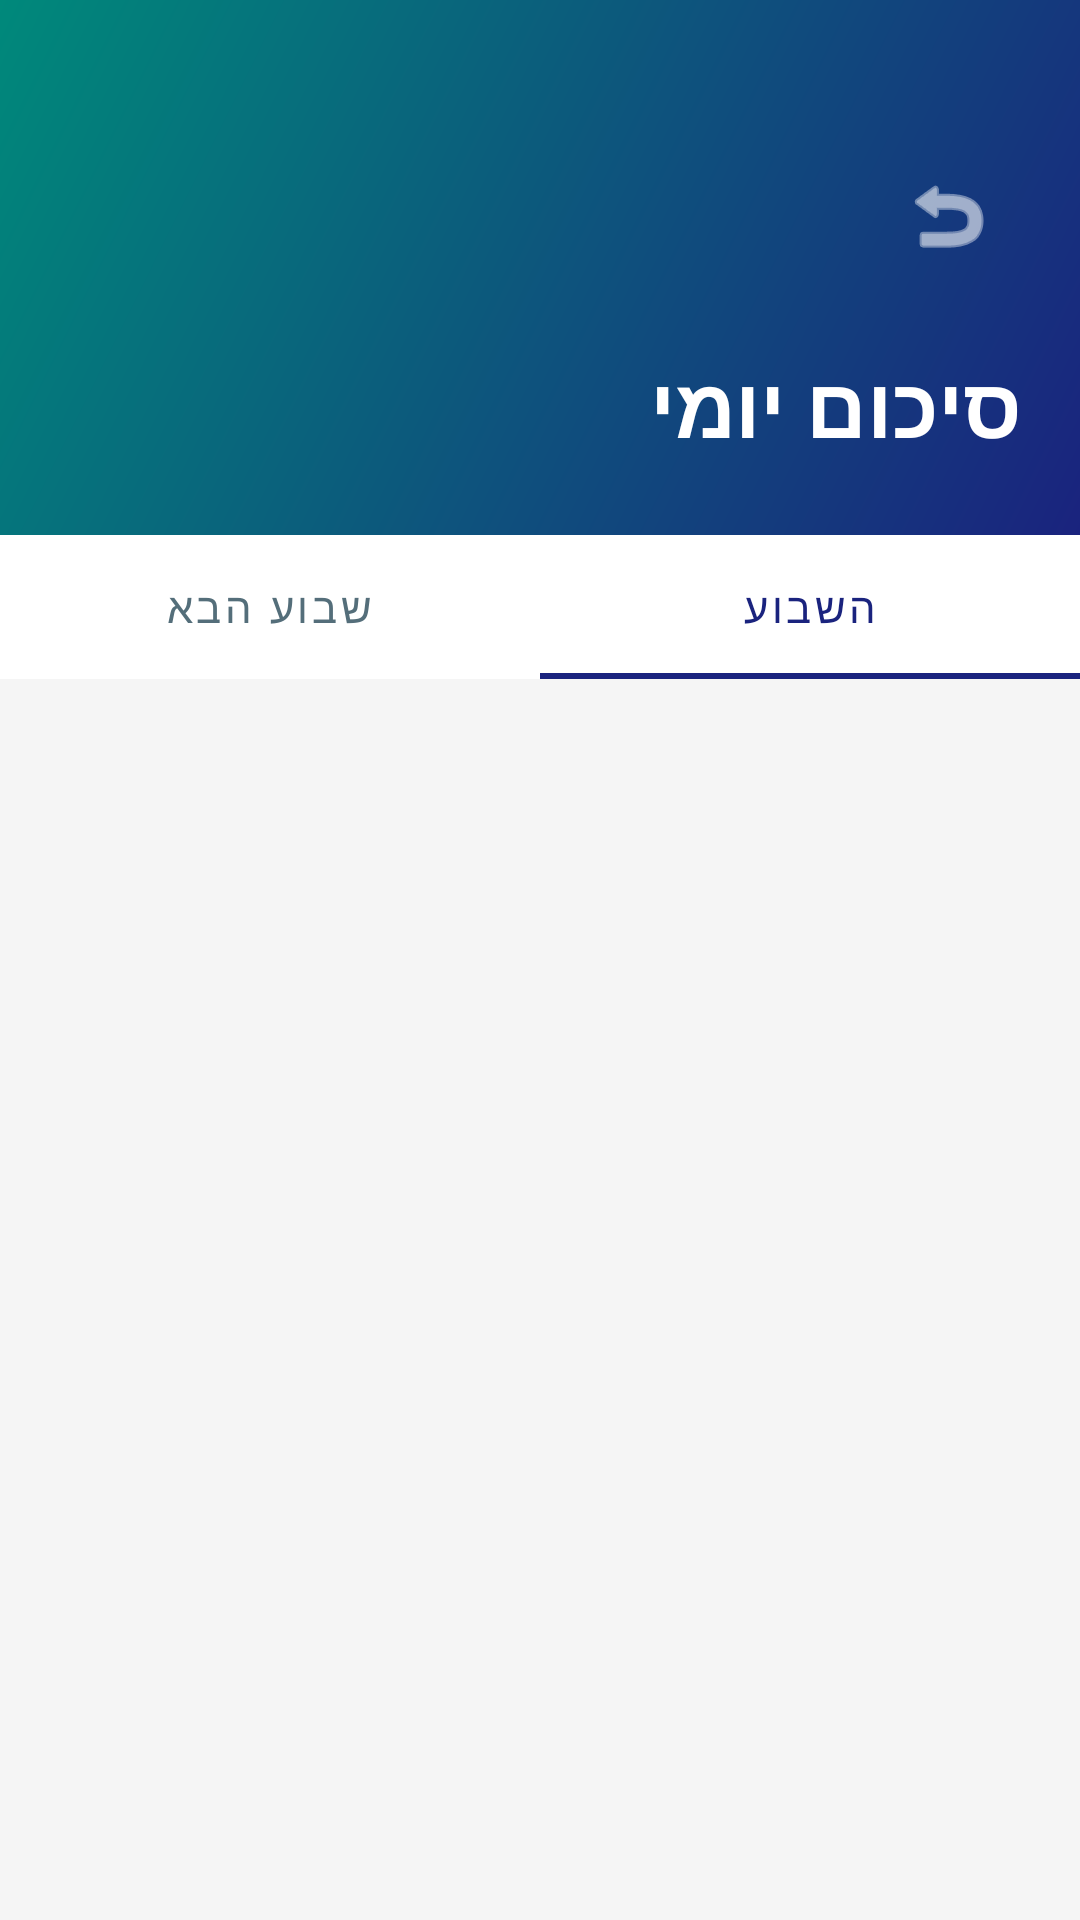

Point at icon controls on the screen. Image size 1080px×1920px, points as [x,y].
חזור: [949,216]
